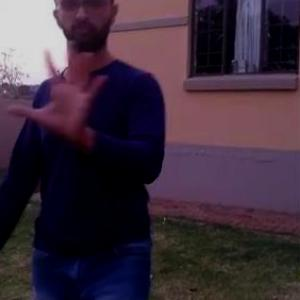follow_hand: (8, 35, 113, 142)
